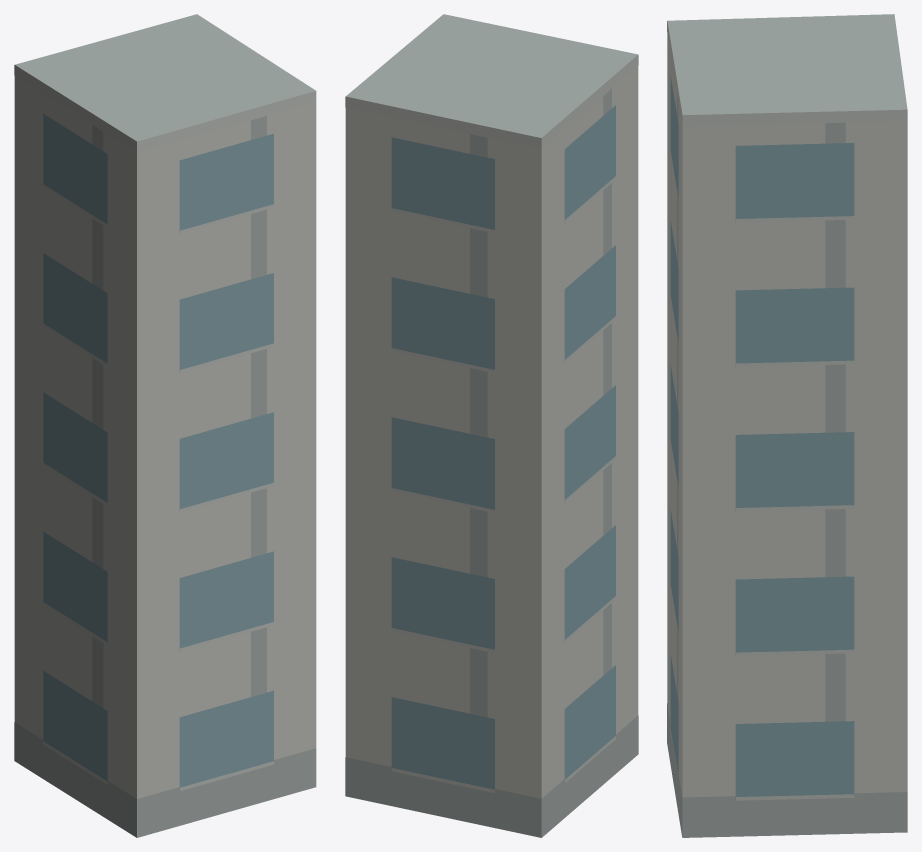
The model's file is survey-upis-32634524.glb.
The picture shows the model from 3 angles, left to right: view 1: azimuth 30°, elevation 25°; view 2: azimuth 150°, elevation 25°; view 3: azimuth 270°, elevation 25°; orthographic projection. The views are drawn at different scales.
Visible parts, largest first — view 1: survey-upis-32634524.tmp; view 2: survey-upis-32634524.tmp; view 3: survey-upis-32634524.tmp.
Part boxes in pixels (x1,y1,x2,y2): survey-upis-32634524.tmp: (14,14,316,837); survey-upis-32634524.tmp: (345,14,638,837); survey-upis-32634524.tmp: (667,14,907,837).
Size of the model in its own units: 4.59 by 15.25 by 4.6.
